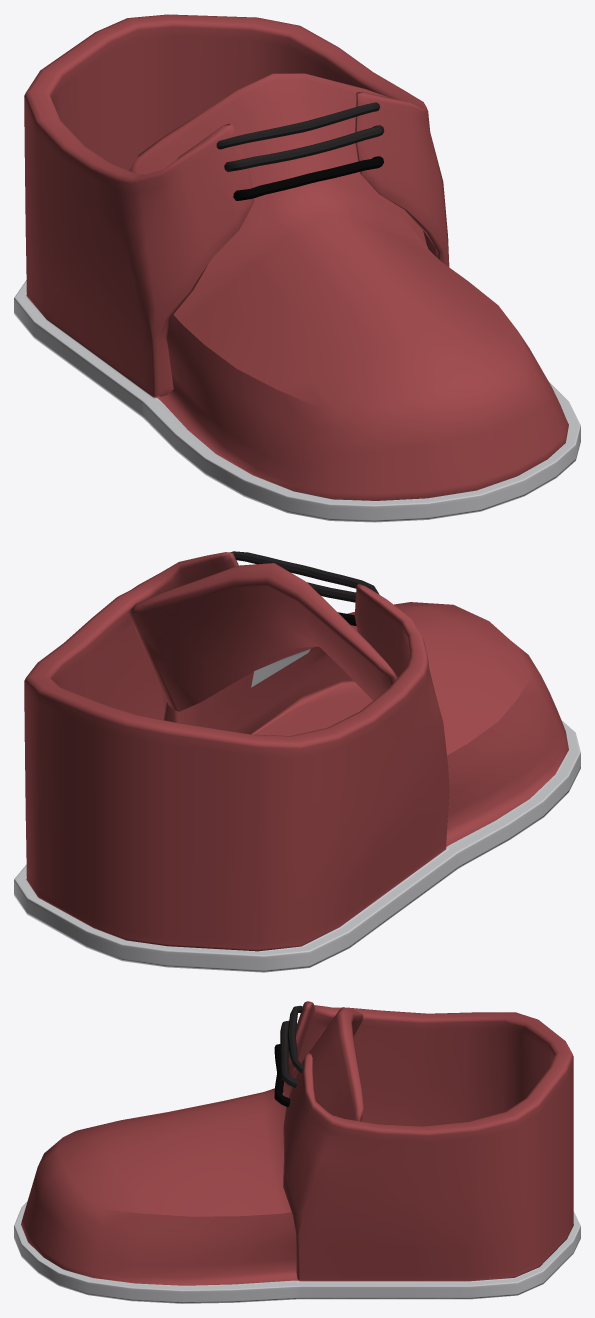
Rendered from Shoe.fbx.
3 views of the same model, one above another, from view 1: azimuth 30°, elevation 25°; view 2: azimuth 150°, elevation 25°; view 3: azimuth 270°, elevation 25° (orthographic). The views are drawn at different scales.
Parts seen in each view (by area): view 1: pCylinder5; view 2: pCylinder5; view 3: pCylinder5.
Boxes of the visible parts, <box> form: pCylinder5: <box>14,14,580,522</box>; pCylinder5: <box>14,551,580,972</box>; pCylinder5: <box>14,1001,580,1303</box>.
Size of the model in its own units: 1.02 by 0.8274 by 1.87.
